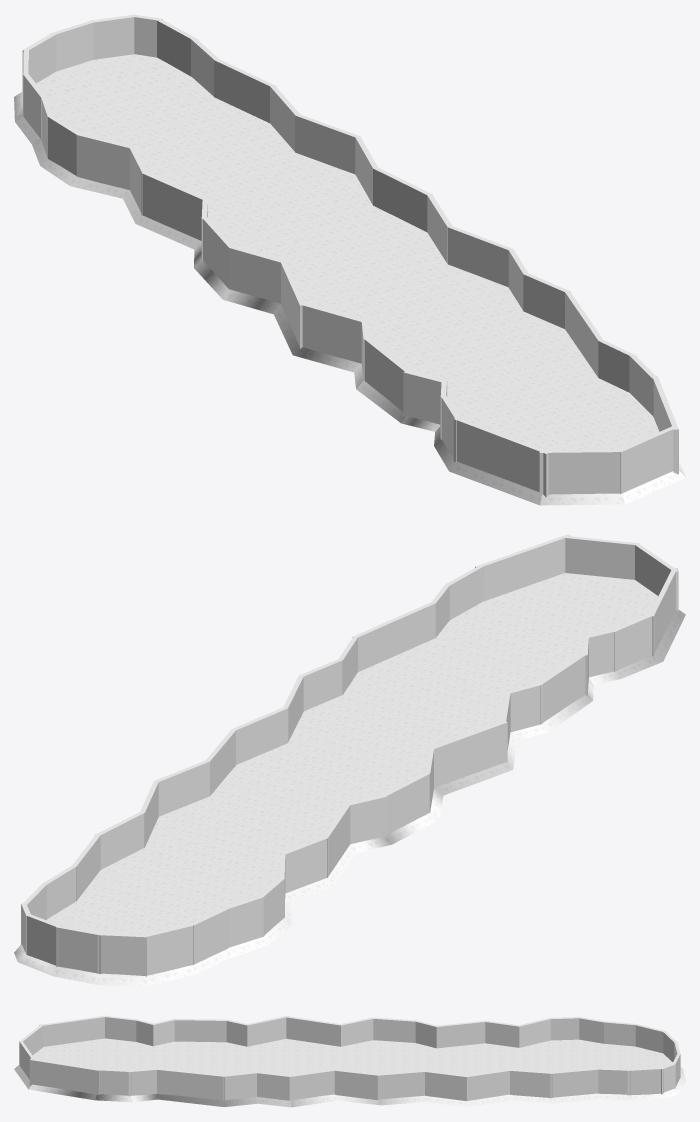
Rendered from GroundLevel12.fbx.
3 renders of one model, top to bottom at view 1: azimuth 30°, elevation 25°; view 2: azimuth 150°, elevation 25°; view 3: azimuth 270°, elevation 25°, orthographic. The views are drawn at different scales.
Parts seen in each view (by area): view 1: GroundLevel12, Cube (1), Cube (2), Cube (29), Cube (34), Cube (10), Cube (14), Cube (3), Cube (27), Cube (32), Cube (16), Cube (12) (+23 smaller); view 2: GroundLevel12, Cube (4), Cube (33), Cube (7), Cube (3), Cube (11), Cube (36), Cube (13), Cube (22), Cube (23), Cube (21), Cube (31) (+21 smaller); view 3: GroundLevel12, Cube (4), Cube (7), Cube (1), Cube (33), Cube (16), Cube (12), Cube (36), Cube (10), Cube (29), Cube (11), Cube (14) (+27 smaller).
Part boxes in pixels (x1,y1,x2,y2): GroundLevel12: (14, 54, 685, 505); Cube (1): (453, 417, 549, 497); Cube (2): (539, 449, 621, 495); Cube (29): (141, 172, 207, 240); Cube (34): (302, 303, 366, 363); Cube (10): (448, 226, 513, 287); Cube (14): (295, 113, 360, 174); Cube (3): (617, 426, 676, 493); Cube (27): (76, 133, 134, 189); Cube (32): (229, 246, 285, 303); Cube (16): (214, 59, 276, 123); Cube (12): (373, 167, 432, 231); GroundLevel12: (14, 573, 685, 986); Cube (4): (475, 534, 570, 601); Cube (33): (429, 720, 507, 787); Cube (7): (352, 602, 435, 671); Cube (3): (563, 535, 638, 579); Cube (11): (233, 707, 288, 764); Cube (36): (538, 653, 586, 724); Cube (13): (155, 760, 209, 816); Cube (22): (97, 933, 147, 976); Cube (23): (145, 924, 193, 975); Cube (21): (56, 925, 102, 974); Cube (31): (381, 772, 429, 834); GroundLevel12: (14, 1038, 685, 1107); Cube (4): (29, 1058, 99, 1095); Cube (7): (156, 1068, 225, 1100); Cube (1): (39, 1015, 107, 1046); Cube (33): (284, 1016, 340, 1046); Cube (16): (550, 1068, 599, 1098); Cube (12): (377, 1070, 425, 1100); Cube (36): (174, 1019, 227, 1042); Cube (10): (289, 1069, 334, 1100); Cube (29): (436, 1020, 485, 1048); Cube (11): (334, 1069, 377, 1099); Cube (14): (466, 1069, 510, 1100).
Bounding box in the file's own units: 105 × 21 × 450.
3 materials, 2 textured.
